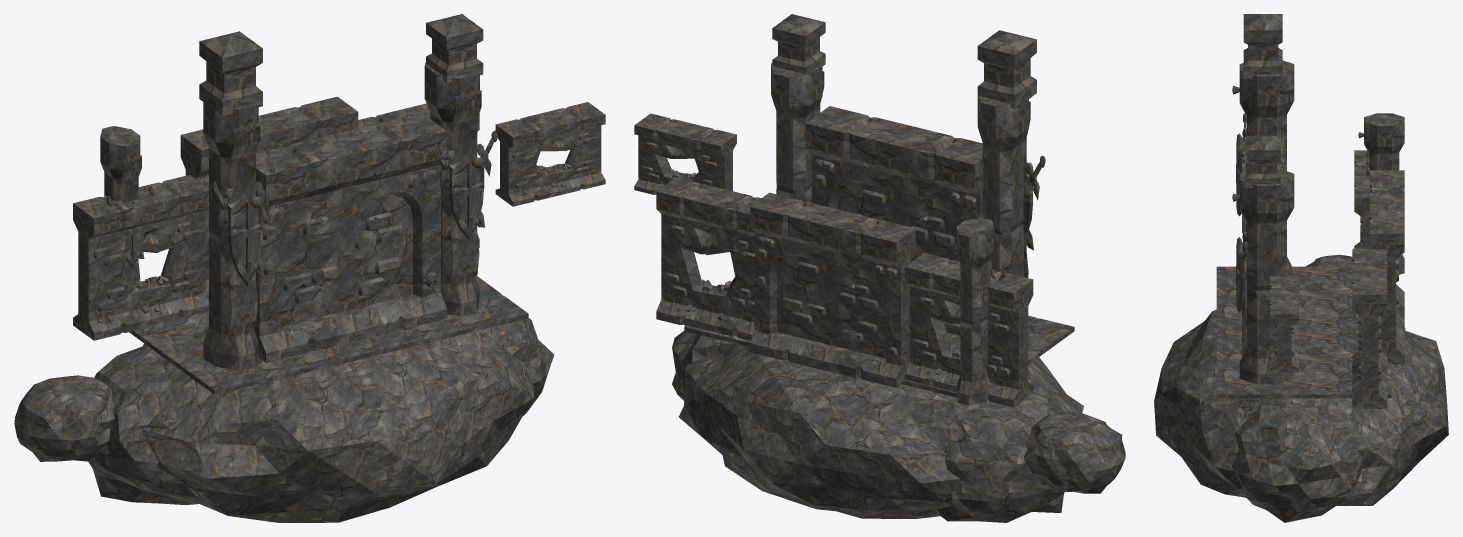
File: sky-sanctuary.glb
3 views of the same model, side by side, from view 1: azimuth 30°, elevation 25°; view 2: azimuth 150°, elevation 25°; view 3: azimuth 270°, elevation 25° (orthographic). The views are drawn at different scales.
Parts seen in each view (by area): view 1: Sky Sanctuary | weathered stone; view 2: Sky Sanctuary | weathered stone; view 3: Sky Sanctuary | weathered stone.
Part boxes in pixels (box(x1,y1,x2,y2)): Sky Sanctuary | weathered stone: box(14, 14, 605, 522); Sky Sanctuary | weathered stone: box(634, 14, 1125, 522); Sky Sanctuary | weathered stone: box(1154, 14, 1448, 522).
Size of the model in its own units: 27.04 by 23.78 by 15.2.
Materials: 1 (1 with a texture image).
